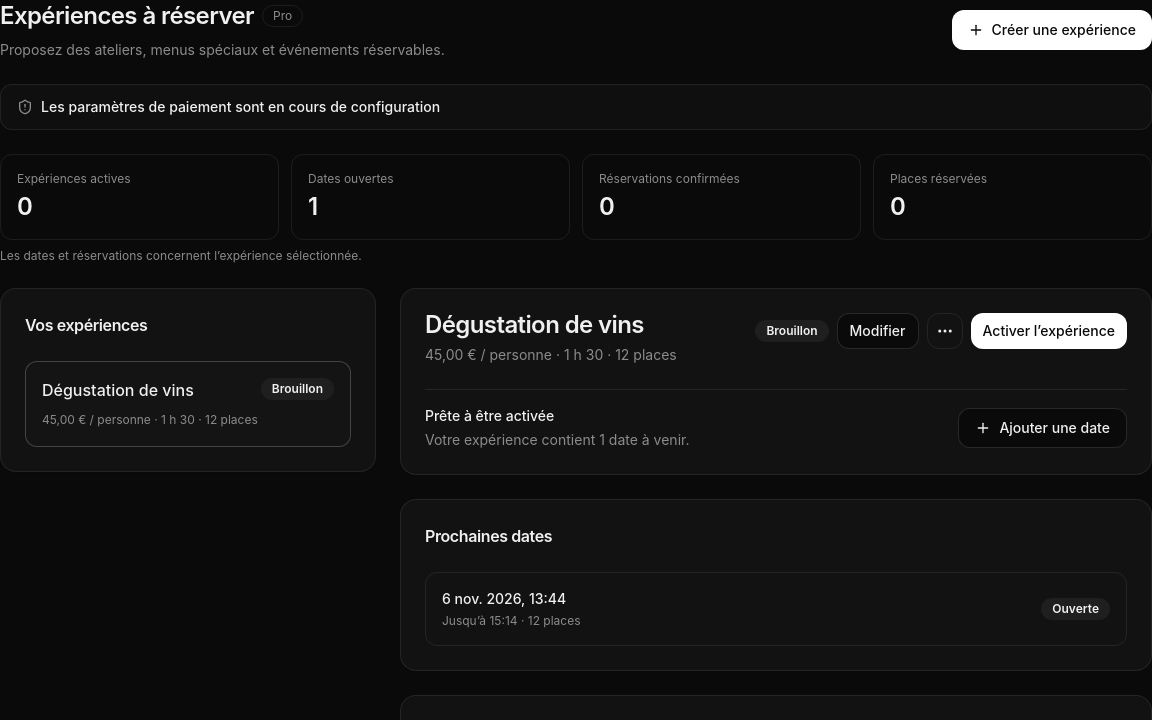
ExperiencesPage › recharge la liste après la suppression de l’expérience sélectionnée
Click the heading named "Autres actions": (944, 331) [926,313,962,349]
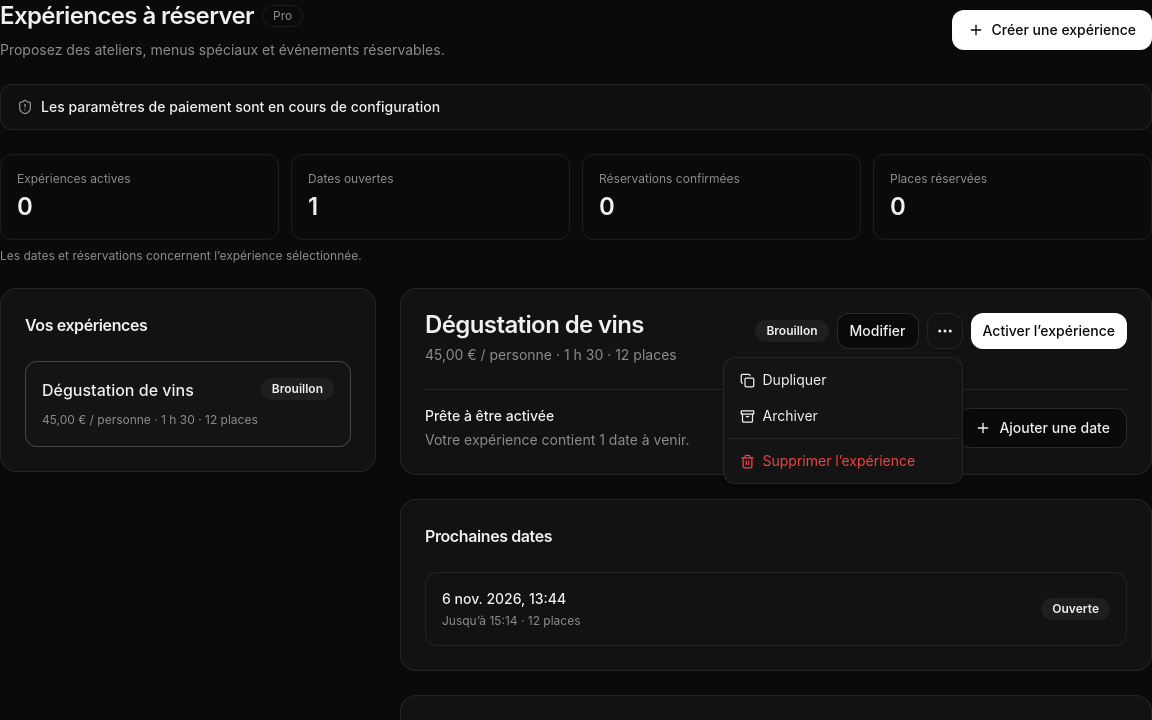
Expected: the button "Supprimer l’expérience" is enabled
Click the button "Supprimer l’expérience": (842, 461) [728,443,958,479]
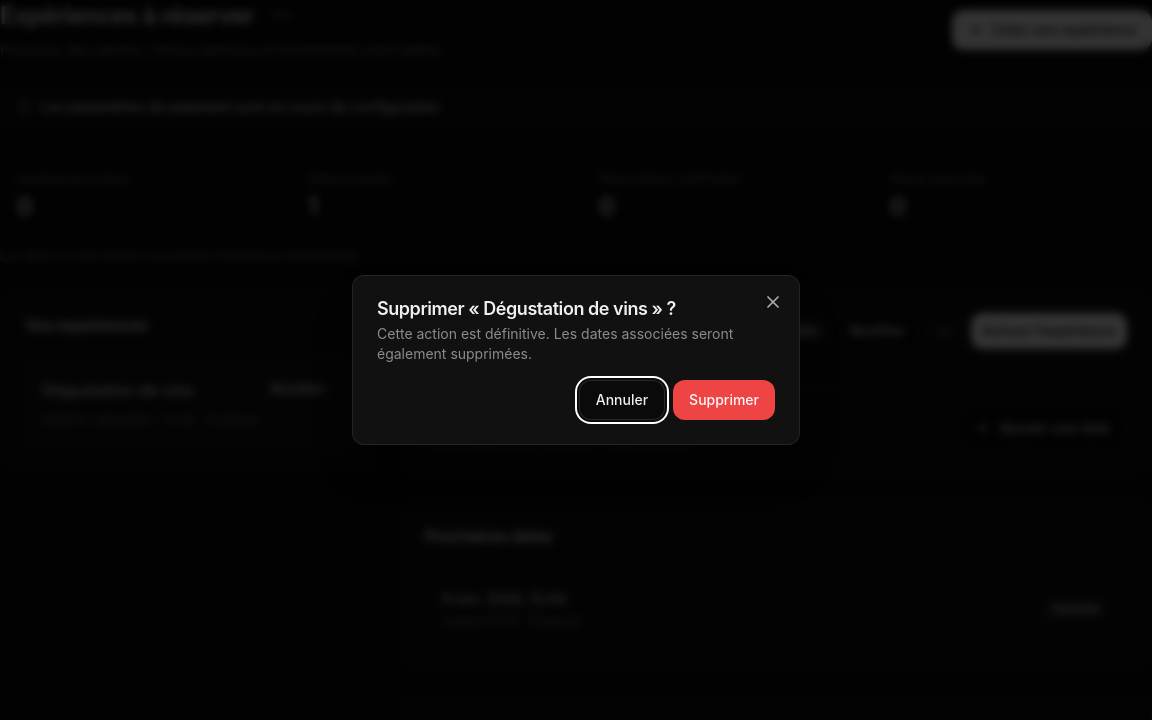
Click the button "Supprimer": (724, 400) [673,380,775,420]
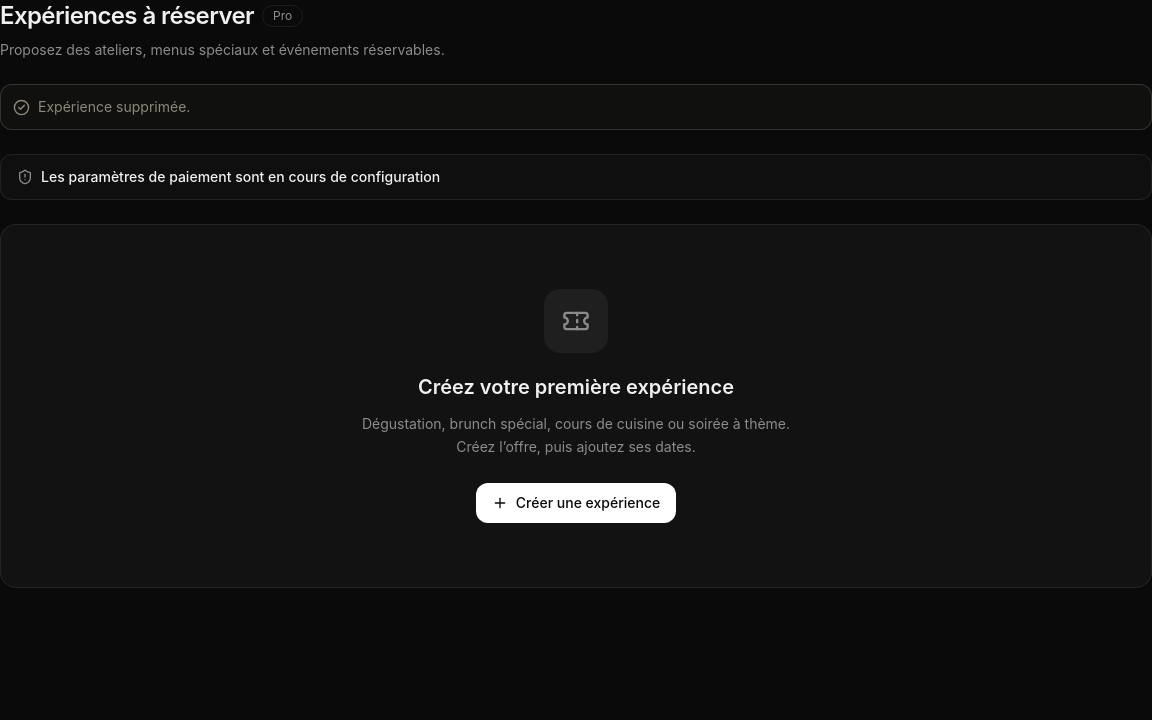
Expected: the heading "Créez votre première expérience" is shown, [418,373,734,401]
